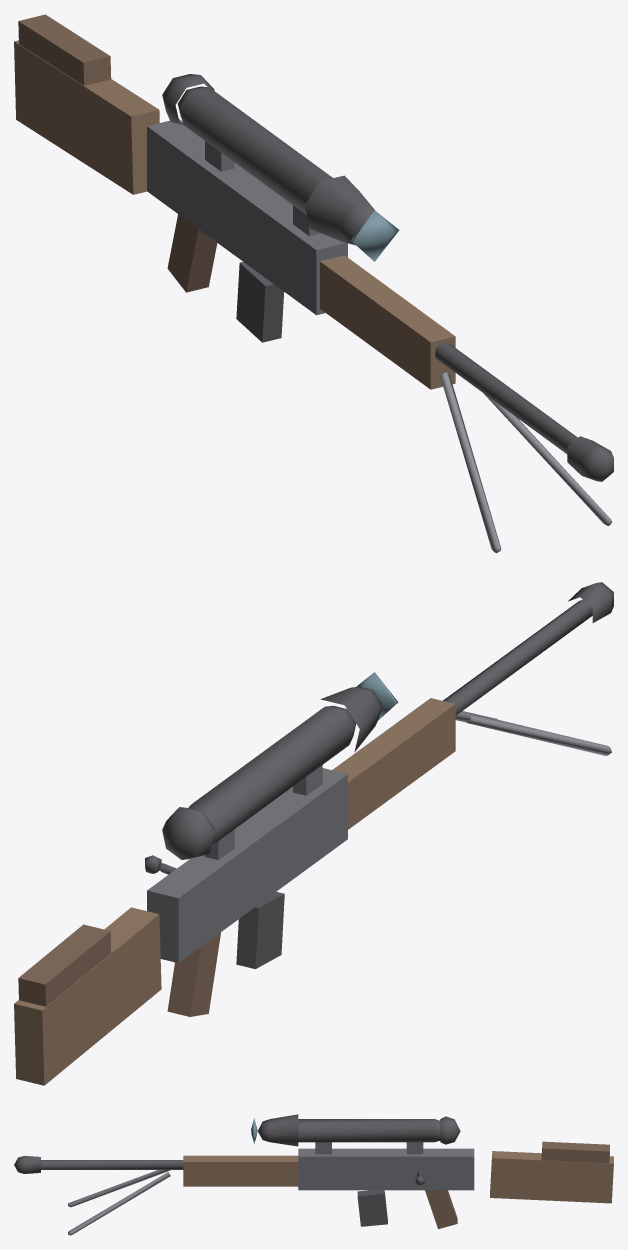
File: sniper.glb
3 views of the same model, one above another, from view 1: azimuth 30°, elevation 25°; view 2: azimuth 150°, elevation 25°; view 3: azimuth 270°, elevation 25° (orthographic). The views are drawn at different scales.
Visible parts, largest first — view 1: weapon_body; view 2: weapon_body; view 3: weapon_body.
Boxes of the visible parts, bbox=[...] form: weapon_body: bbox=[14, 14, 613, 553]; weapon_body: bbox=[14, 582, 613, 1085]; weapon_body: bbox=[14, 1114, 613, 1235].
Bounding box in the file's own units: 0.3447 × 0.5333 × 2.66.
